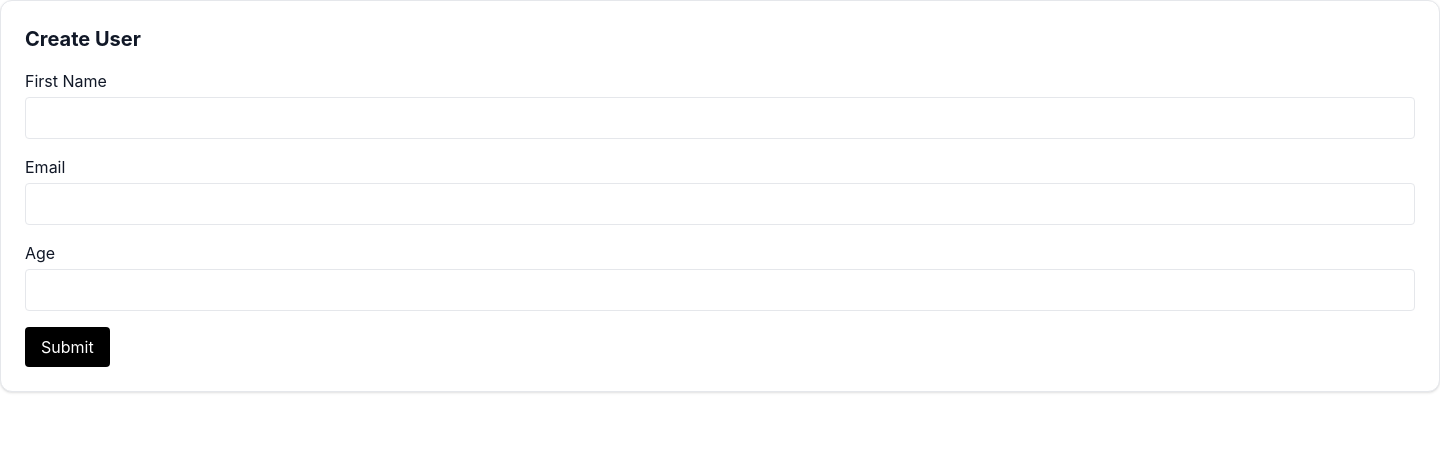
Test: DynamicForm › shows required-field validation when submitted empty
Click the button "Submit": [67, 347] box [25,327,110,367]
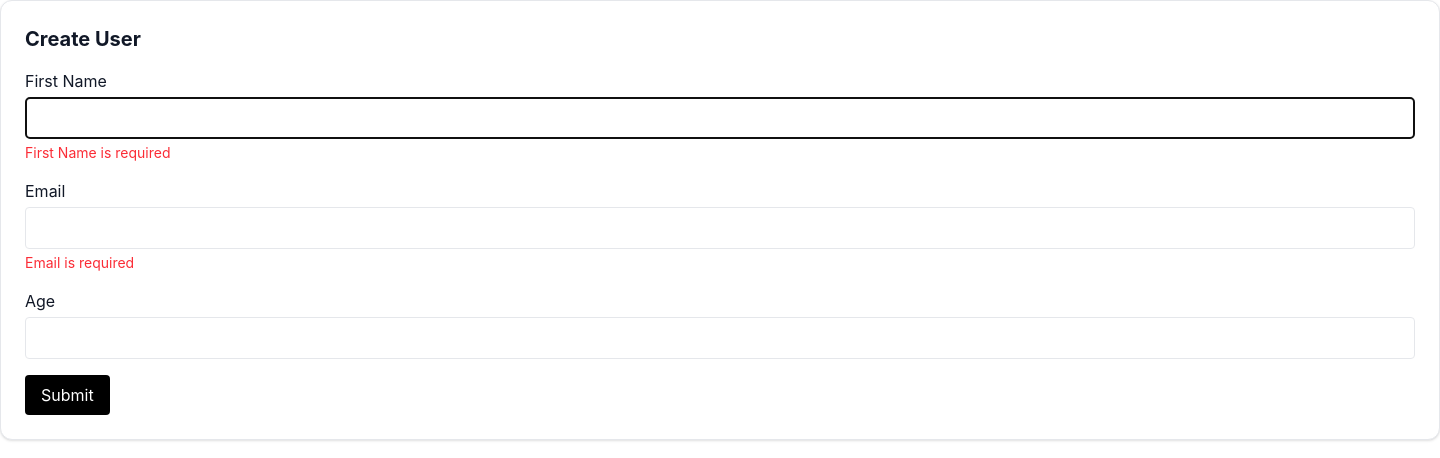
Expected: the text "First Name is required" is shown, [25,144,170,161]
Expected: the text "Email is required" is shown, [25,254,134,271]
